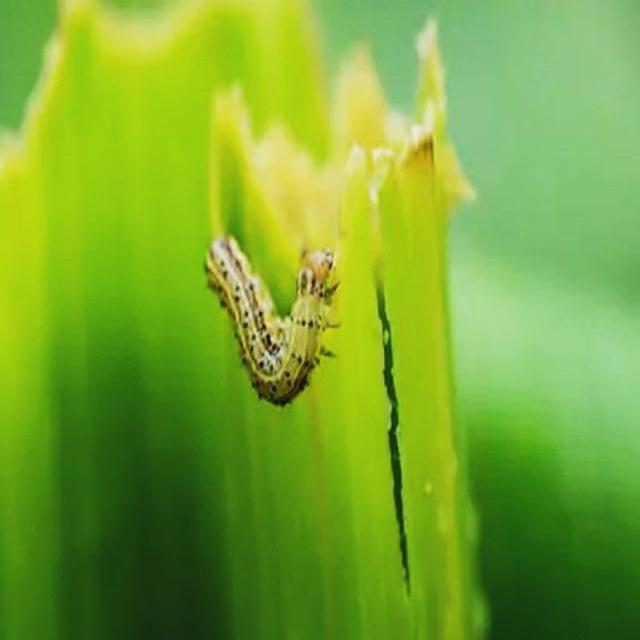gusano_cogollero: (205, 229, 342, 411)
